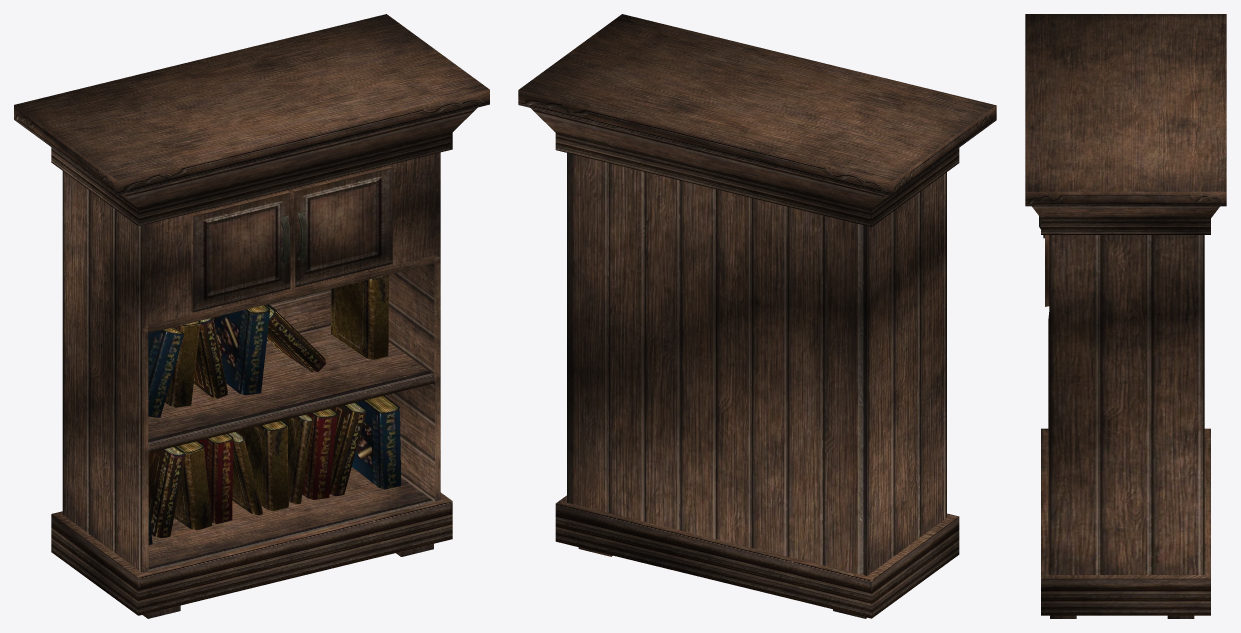
Rendered from GS_VOB_BOOKCASE_ORANGE_02_KOZA.glb.
3 views of the same model, side by side, from view 1: azimuth 30°, elevation 25°; view 2: azimuth 150°, elevation 25°; view 3: azimuth 270°, elevation 25° (orthographic). The views are drawn at different scales.
Parts seen in each view (by area): view 1: Mesh; view 2: Mesh; view 3: Mesh.
Part boxes in pixels (x1=…): Mesh: x1=14, y1=14, x2=489, y2=618; Mesh: x1=518, y1=14, x2=996, y2=618; Mesh: x1=1025, y1=14, x2=1226, y2=618.
Bounding box in the file's own units: 1.41 × 1.66 × 0.6779.
4 materials, 4 textured.
